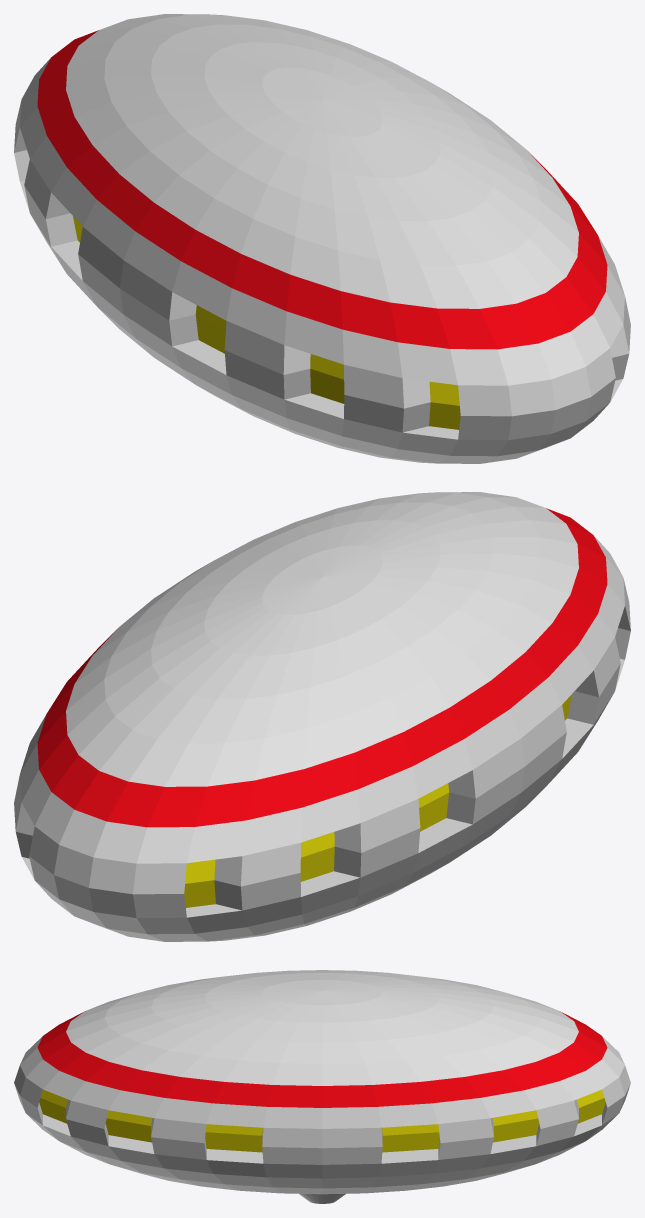
Rendered from alien.glb.
3 renders of one model, top to bottom at view 1: azimuth 30°, elevation 25°; view 2: azimuth 150°, elevation 25°; view 3: azimuth 270°, elevation 25°, orthographic. The views are drawn at different scales.
Parts seen in each view (by area): view 1: Sphere; view 2: Sphere; view 3: Sphere.
Part boxes in pixels (x1,y1,x2,y2): Sphere: (14,14,630,463); Sphere: (14,492,630,941); Sphere: (14,970,630,1203).
Size of the model in its own units: 29.88 by 22.48 by 59.64.
